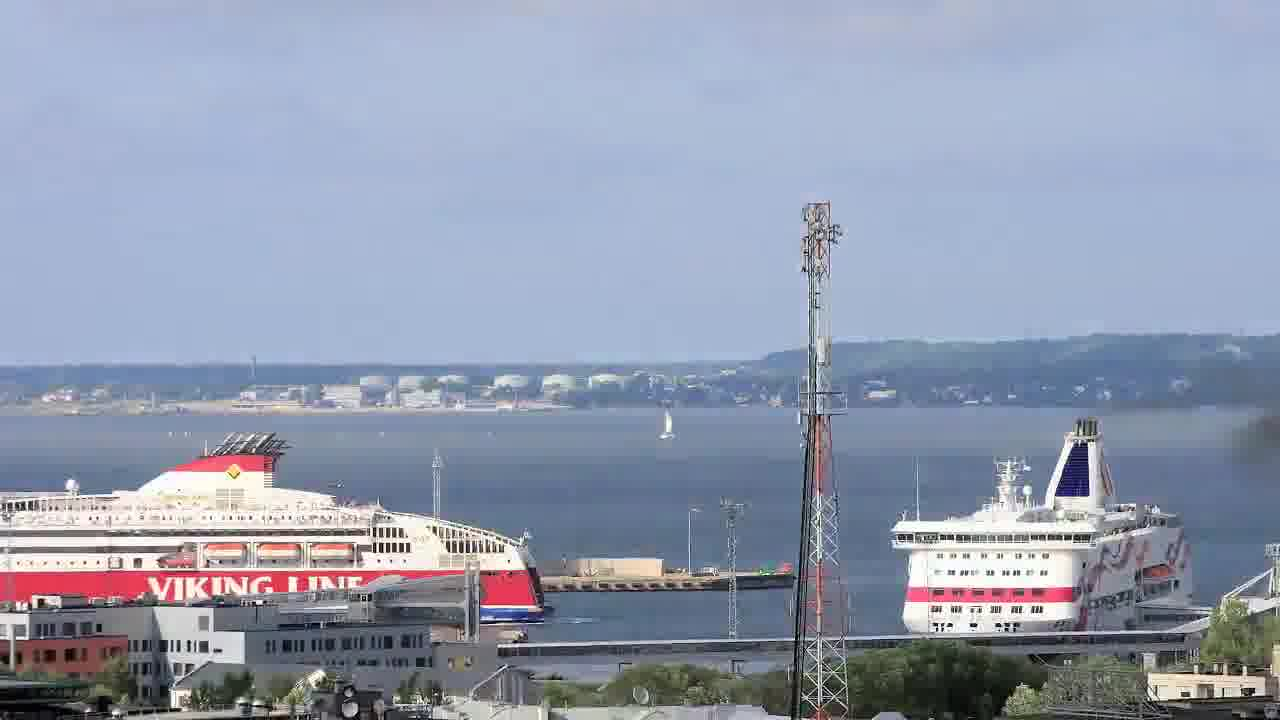type-2: (633, 391, 702, 454)
type-3: (0, 429, 562, 625), (868, 415, 1225, 638)
